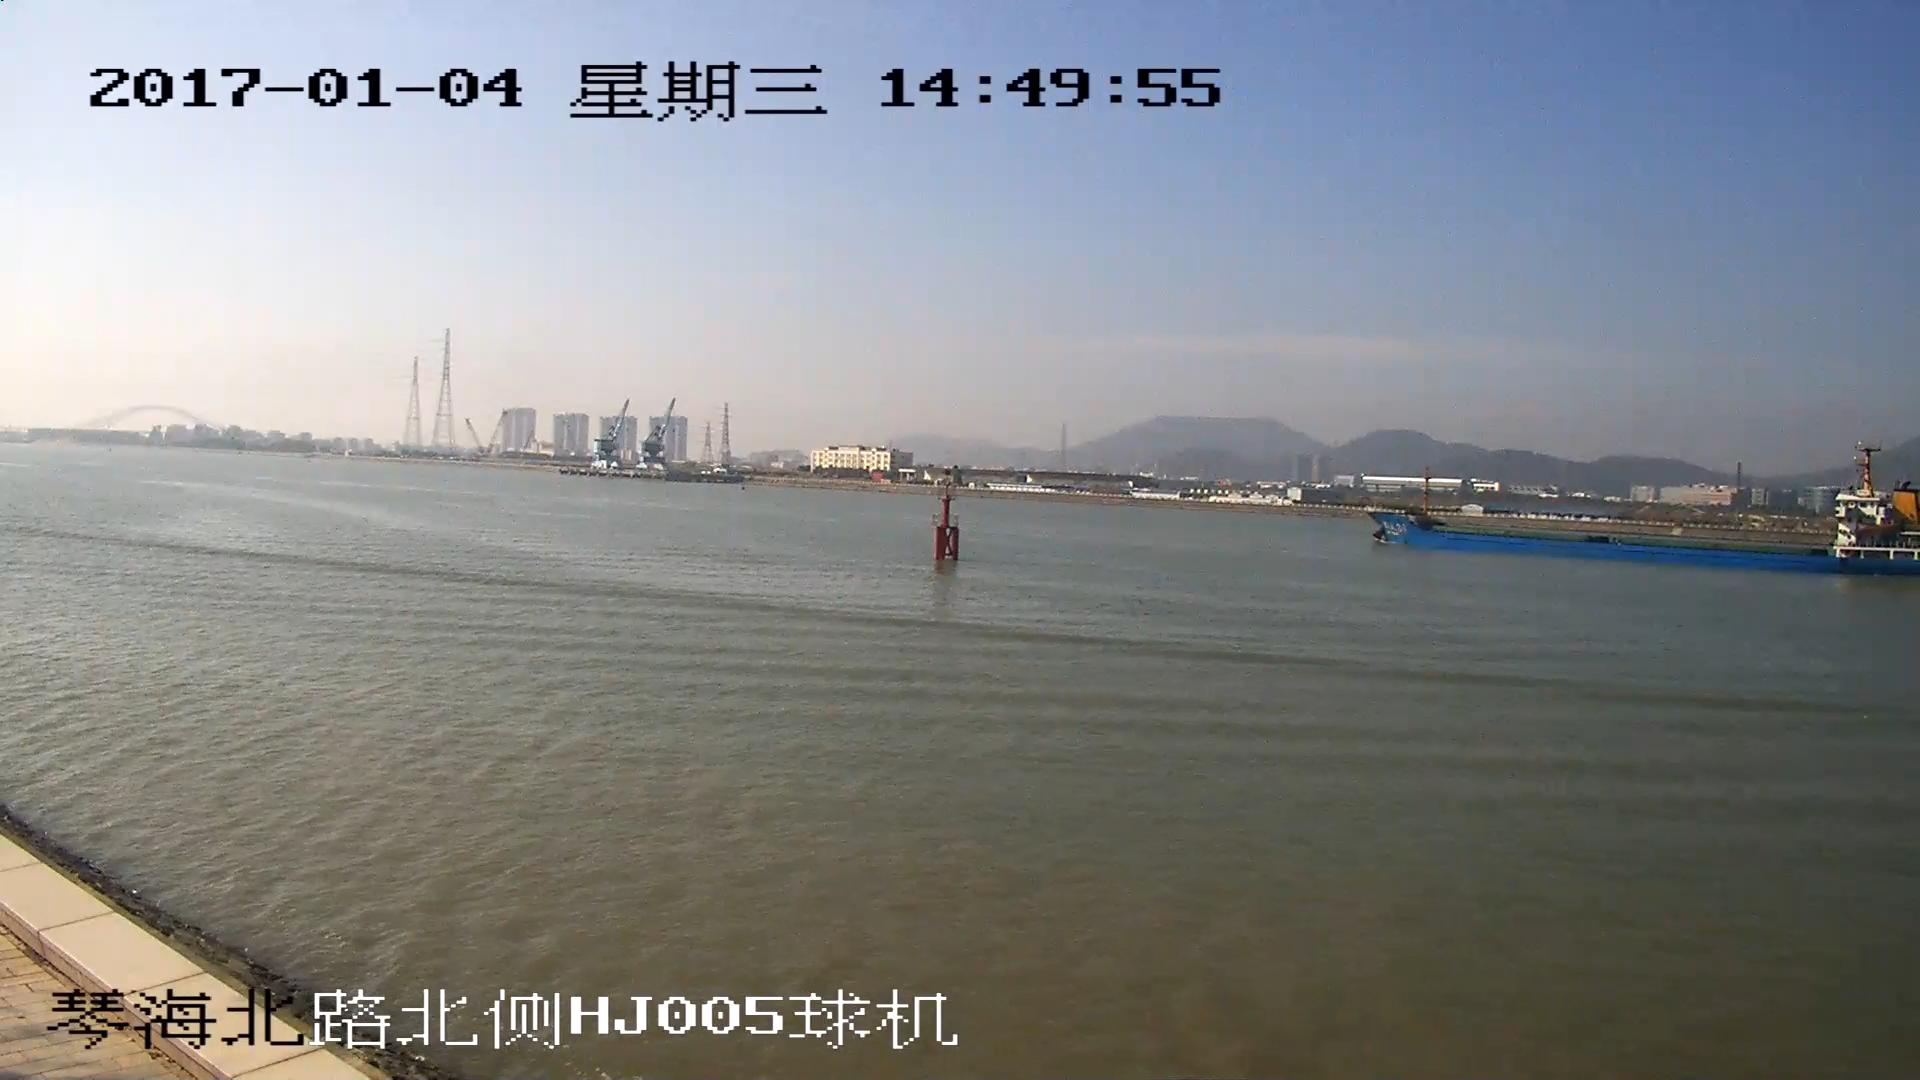general cargo ship: (1372, 440, 1920, 583)
